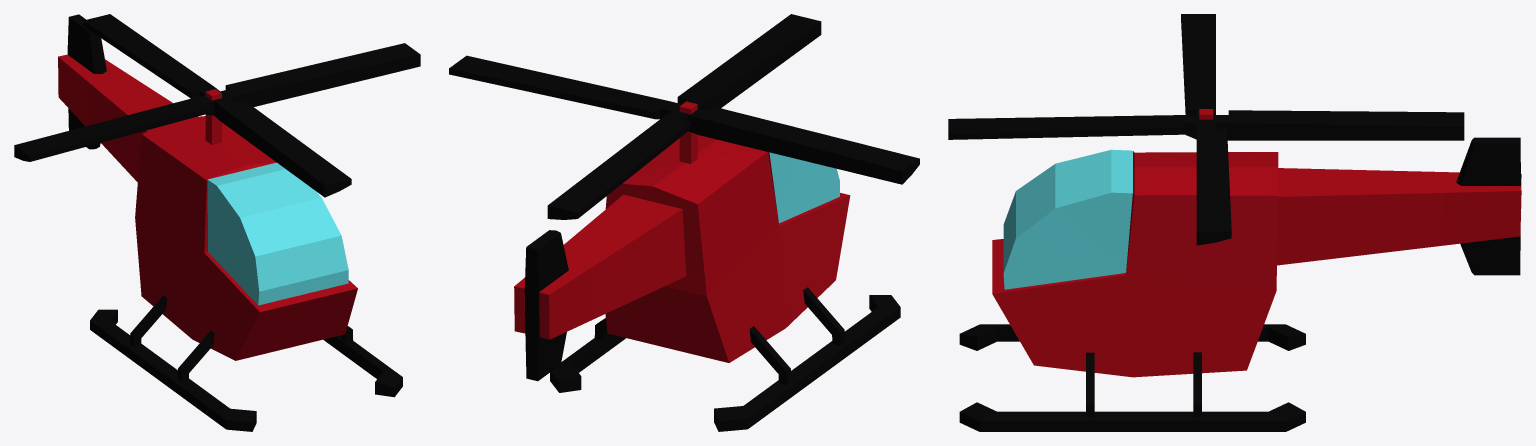
Rendered from F-Helicopter.fbx.
3 views of the same model, side by side, from view 1: azimuth 30°, elevation 25°; view 2: azimuth 150°, elevation 25°; view 3: azimuth 270°, elevation 25° (orthographic). The views are drawn at different scales.
Parts seen in each view (by area): view 1: Helicopter, Pella; view 2: Helicopter, Pella; view 3: Helicopter, Pella.
Boxes of the visible parts, left/top/right/bottom form: Helicopter: left=58, top=14, right=402, bottom=431; Pella: left=14, top=14, right=420, bottom=197; Helicopter: left=514, top=101, right=900, bottom=431; Pella: left=449, top=14, right=919, bottom=219; Helicopter: left=959, top=109, right=1521, bottom=431; Pella: left=948, top=14, right=1464, bottom=245.
Size of the model in its own units: 91.81 by 53.34 by 102.
